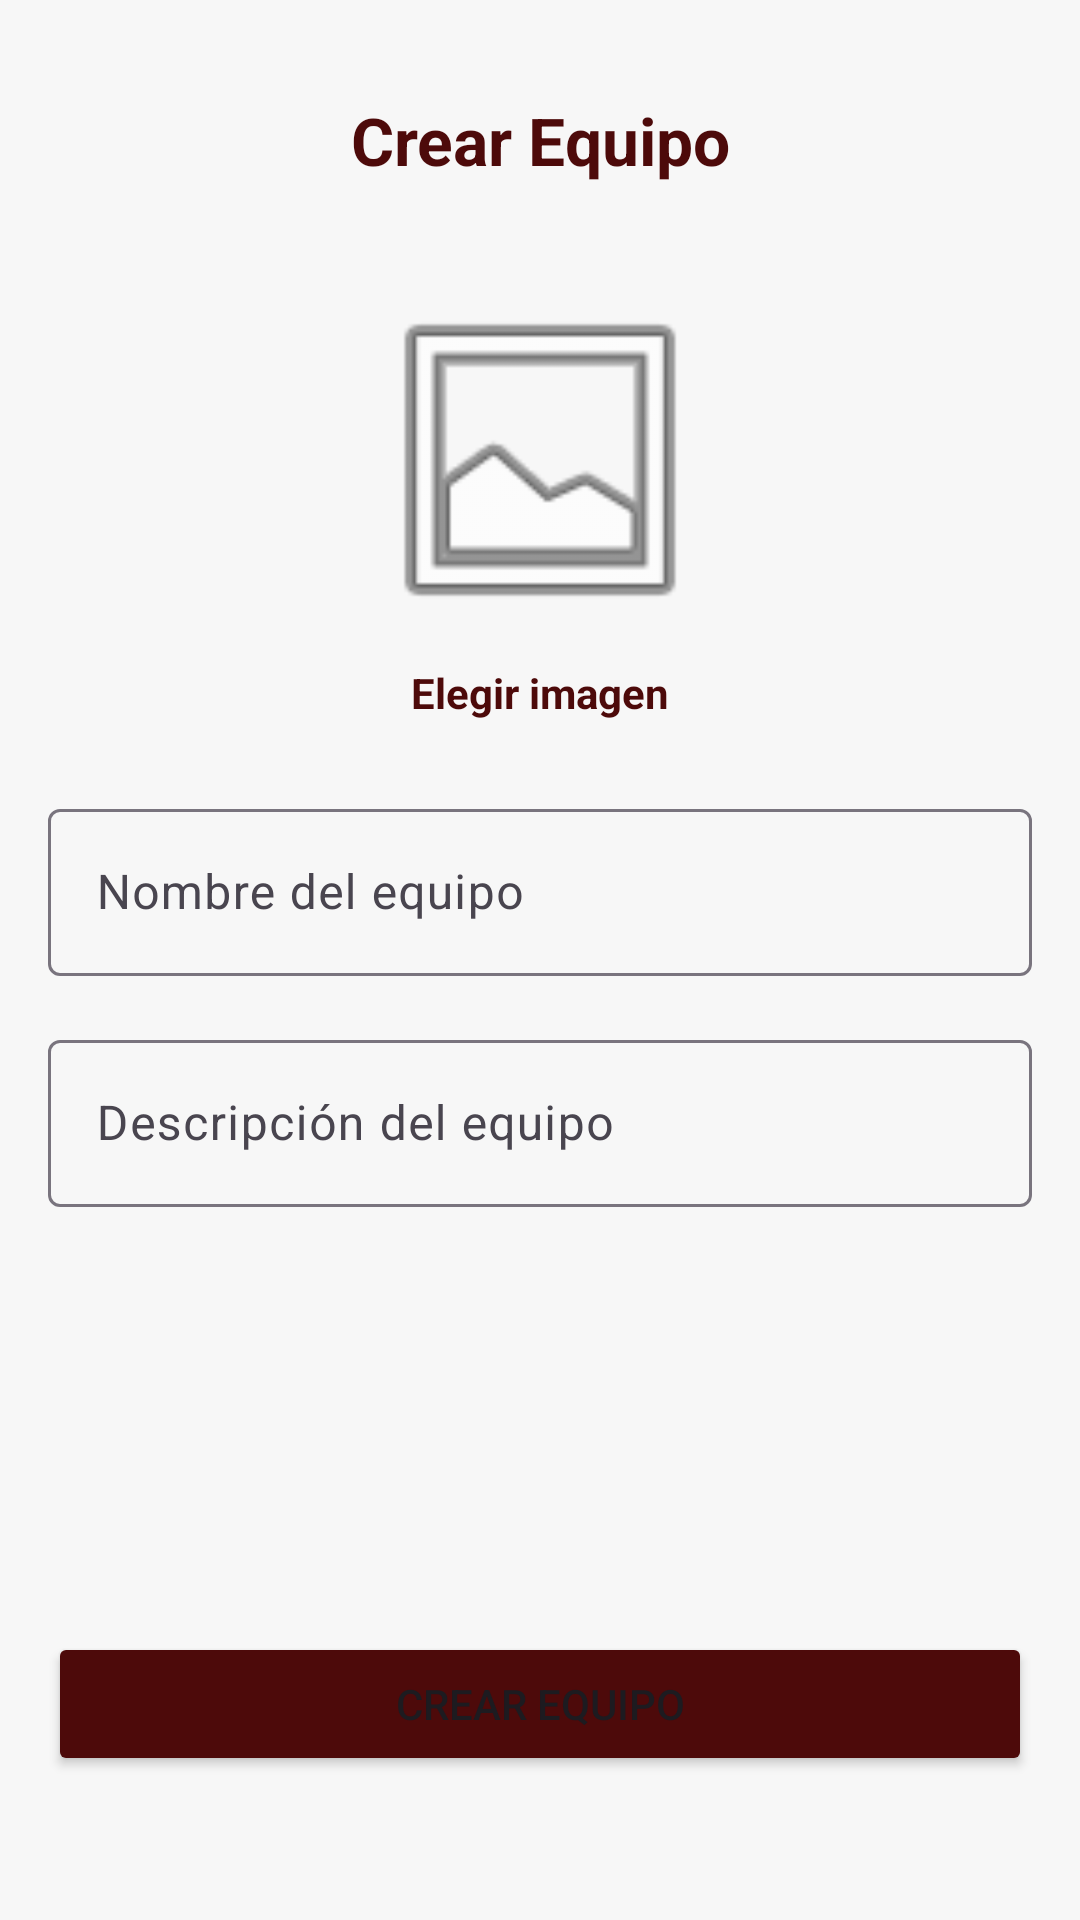

Named icons in this screenshot (1080 x 1920) and their centers, (x=x, y=y):
gallery: (x=540, y=460)
